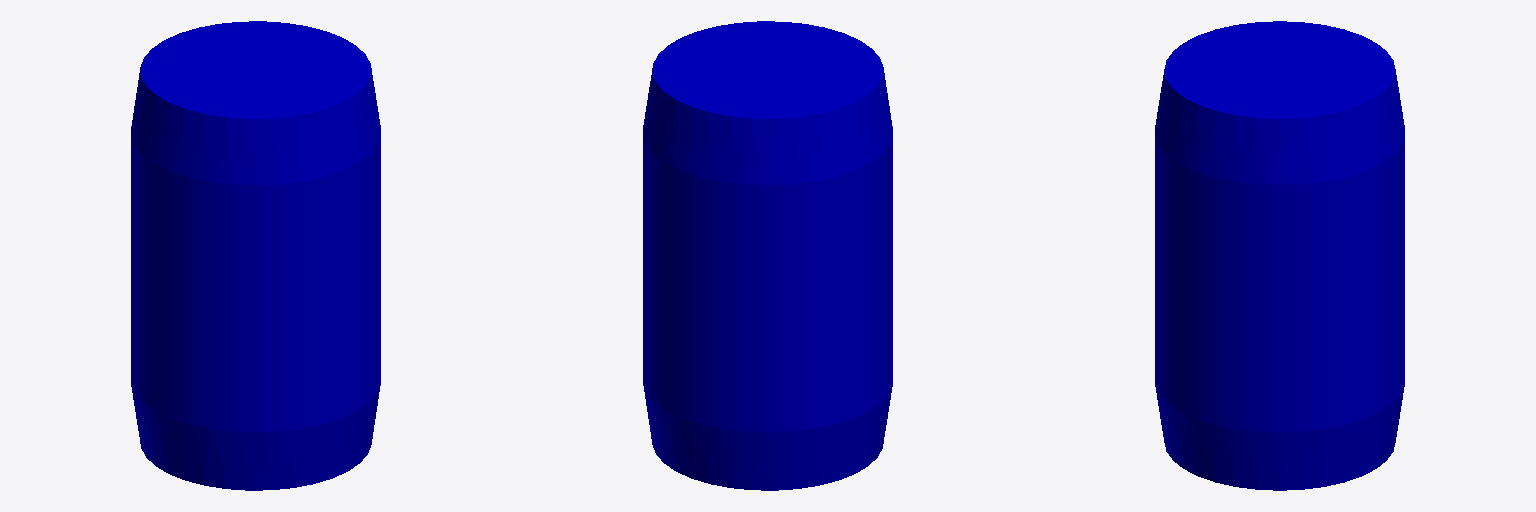
Rendered from bochka.obj.
The picture shows the model from 3 angles: view 1: azimuth 30°, elevation 25°; view 2: azimuth 150°, elevation 25°; view 3: azimuth 270°, elevation 25°; orthographic projection.
Parts seen in each view (by area): view 1: Цилиндр; view 2: Цилиндр; view 3: Цилиндр.
Part boxes in pixels (bbox=[...]): Цилиндр: bbox=[131, 21, 380, 490]; Цилиндр: bbox=[643, 21, 892, 490]; Цилиндр: bbox=[1155, 21, 1404, 490].
Bounding box in the file's own units: 1.94 × 3.17 × 1.94.